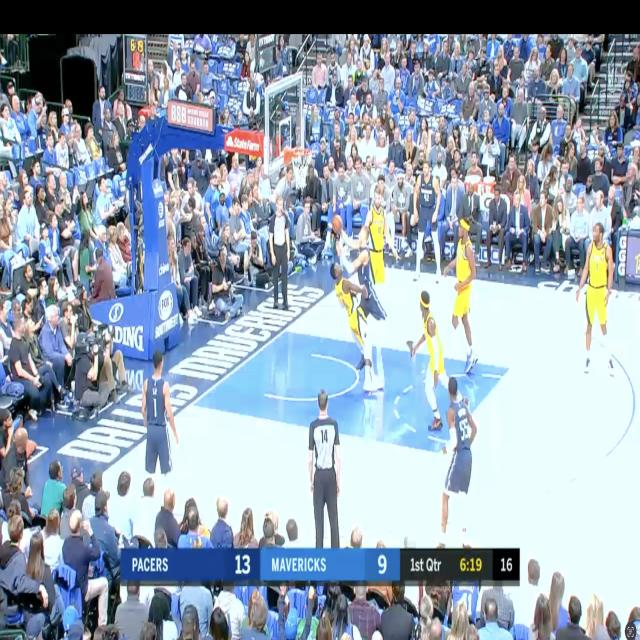foul: (315, 209, 393, 398)
no foul: (412, 216, 492, 434)
